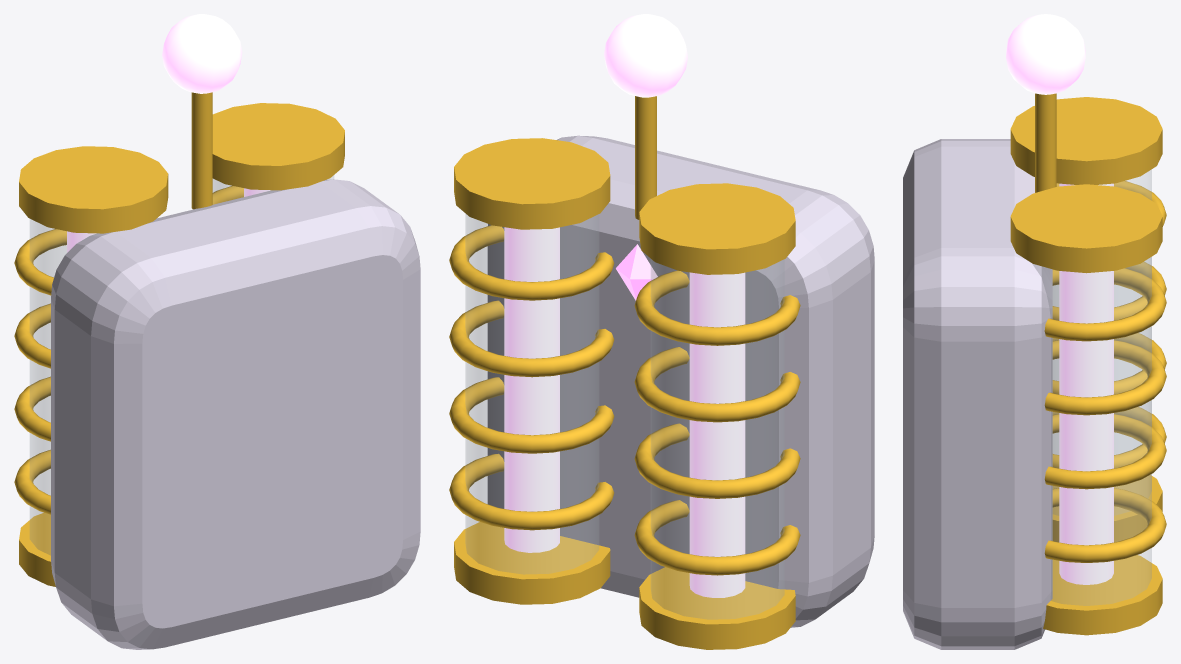
The model's file is back_eqgw4.glb.
3 views of the same model, side by side, from view 1: azimuth 30°, elevation 25°; view 2: azimuth 150°, elevation 25°; view 3: azimuth 270°, elevation 25° (orthographic). The views are drawn at different scales.
Bounding box in the file's own units: 1.4 × 2.33 × 0.97.
